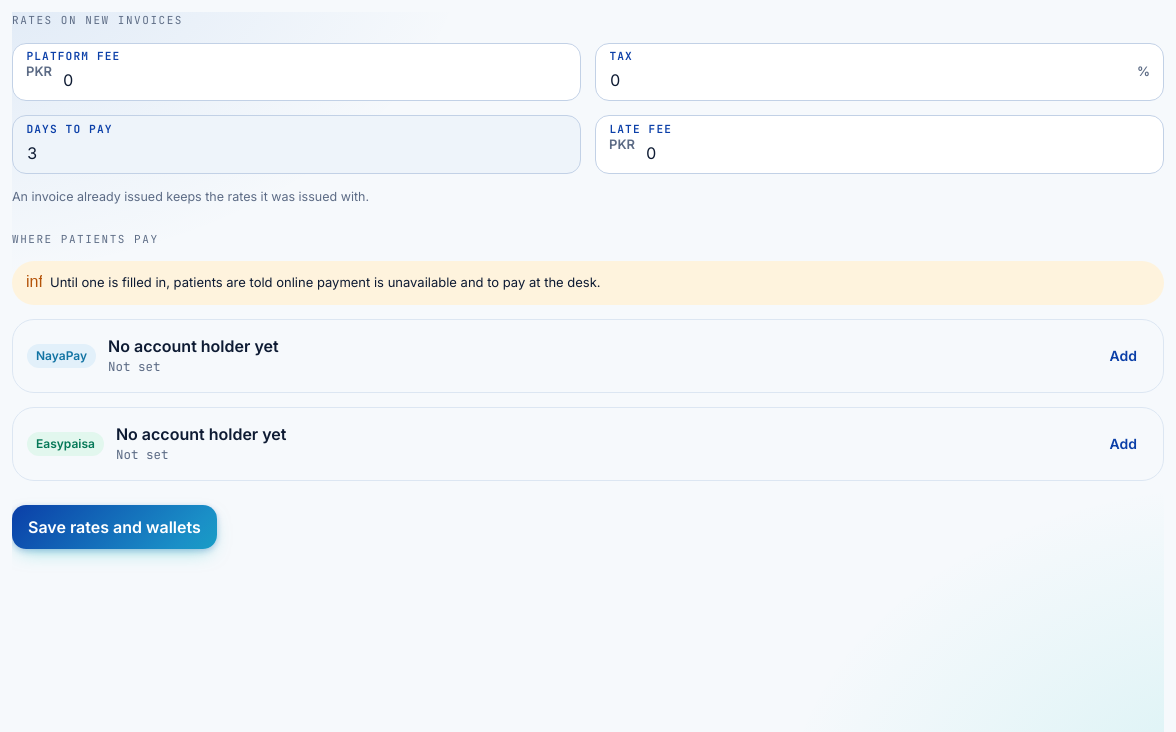
Test case: the mode travels with the value › shows what the number means, and changes it with the mode
The image size is (1176, 732).
Check: the field labelled "Late fee" is shown, box [595,115,1164,174]
Click the button with aria-label "Late fee: PKR per invoice" at (622, 145), box [609,135,635,154]
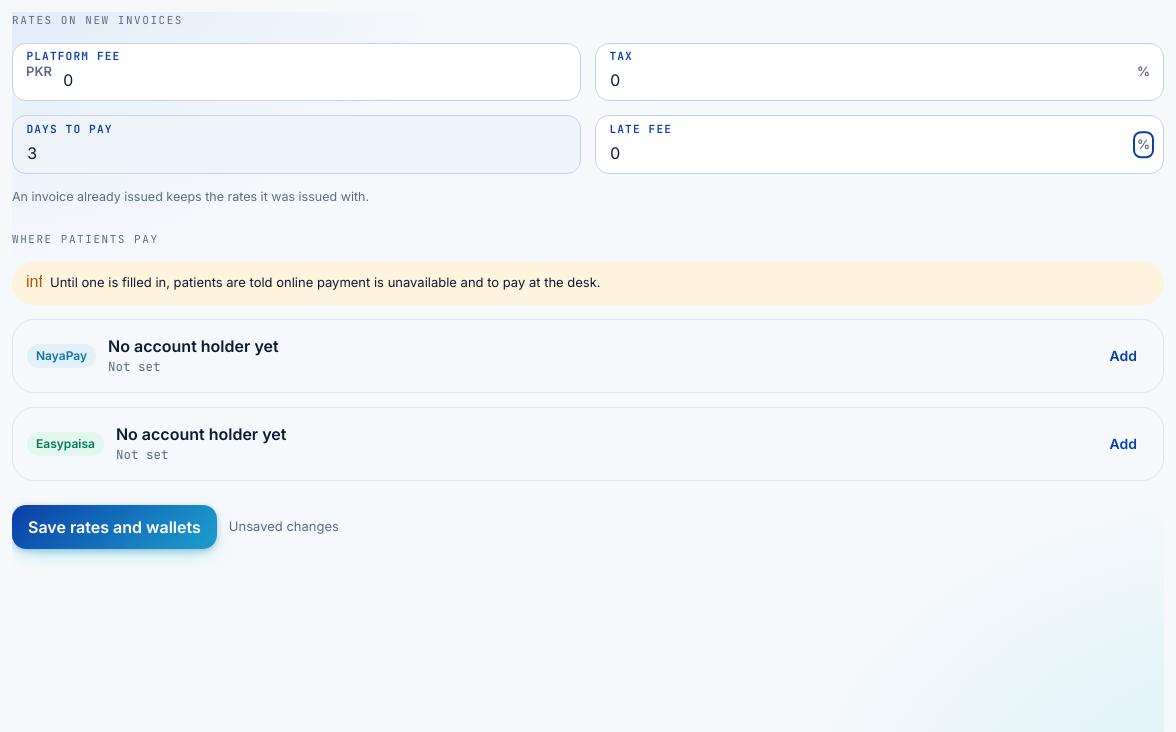
Check: the button named "Late fee: a percentage" reads "%", box [1137,135,1150,154]
